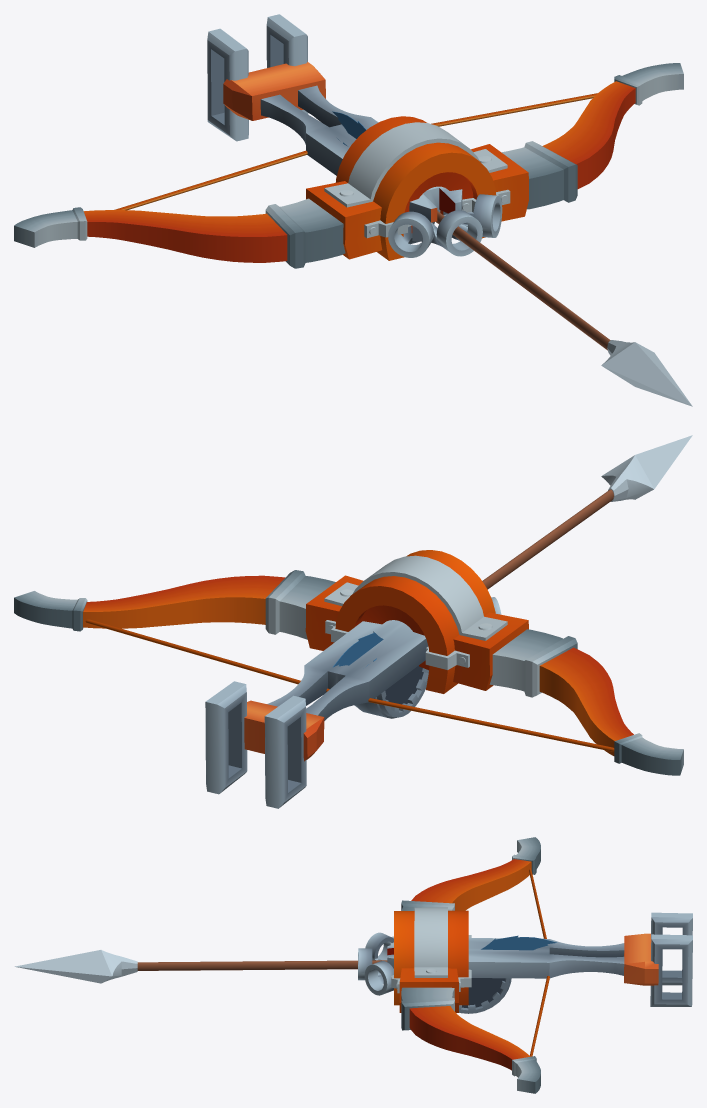
File: bow arrow machine gun model with animation.fbx
The picture shows the model from 3 angles, top to bottom: view 1: azimuth 30°, elevation 25°; view 2: azimuth 150°, elevation 25°; view 3: azimuth 270°, elevation 25°; orthographic projection. The views are drawn at different scales.
Visible parts, largest first — view 1: Plane.001, polySurface5.001, Plane.002, Vert.002, Cylinder.004, Cylinder.005, Cylinder.006; view 2: Plane.001, polySurface5.001, Plane.002, Vert.002; view 3: Plane.001, polySurface5.001, Plane.002, Cylinder.006, Vert.002, Cylinder.005.
Part boxes in pixels (box(x1,y1,x2,y2)): Plane.001: box(14, 63, 683, 268); polySurface5.001: box(207, 14, 462, 244); Plane.002: box(332, 111, 692, 406); Vert.002: box(114, 93, 597, 210); Cylinder.004: box(412, 210, 482, 256); Cylinder.005: box(388, 211, 433, 257); Cylinder.006: box(443, 194, 502, 237); Plane.001: box(14, 550, 683, 775); polySurface5.001: box(205, 620, 428, 808); Plane.002: box(333, 435, 692, 667); Vert.002: box(85, 619, 614, 751); Plane.001: box(390, 837, 540, 1093); polySurface5.001: box(387, 912, 692, 1013); Plane.002: box(15, 935, 556, 983); Cylinder.006: box(364, 961, 393, 995); Vert.002: box(529, 868, 549, 1056); Cylinder.005: box(365, 932, 393, 960).
Bounding box in the file's own units: 2.16 × 0.3978 × 2.53.
